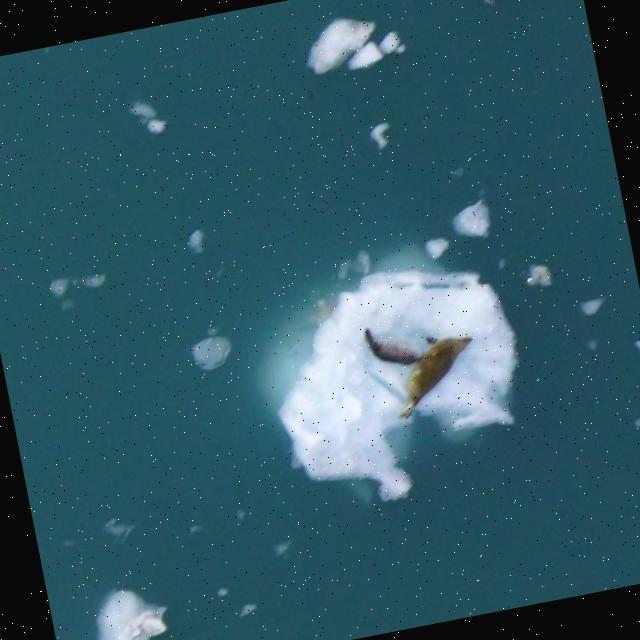seal: (377, 316, 476, 422), (360, 331, 426, 371)
